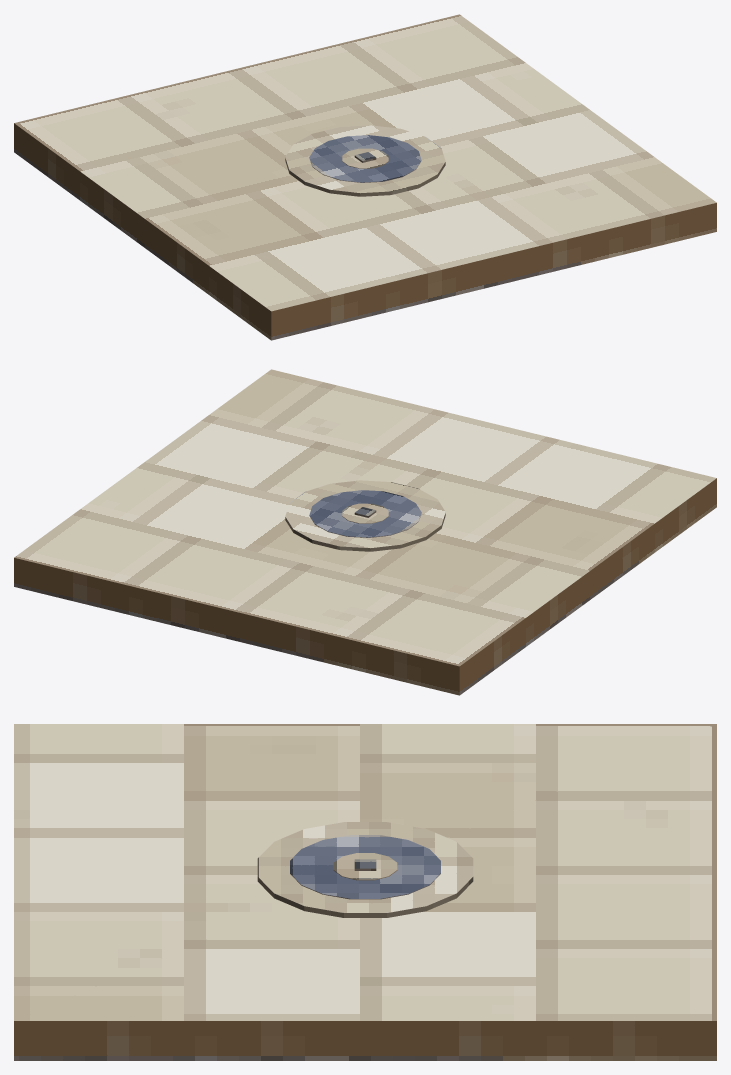
File: plaza.glb
The picture shows the model from 3 angles, top to bottom: view 1: azimuth 30°, elevation 25°; view 2: azimuth 150°, elevation 25°; view 3: azimuth 270°, elevation 25°; orthographic projection. The views are drawn at different scales.
Visible parts, largest first — view 1: tile-plaza__terrain, tile-plaza__rosette_ring, tile-plaza__rosette_inlay, tile-plaza__rosette_hub; view 2: tile-plaza__terrain, tile-plaza__rosette_ring, tile-plaza__rosette_inlay, tile-plaza__rosette_hub; view 3: tile-plaza__terrain, tile-plaza__rosette_ring, tile-plaza__rosette_inlay, tile-plaza__rosette_hub.
Boxes of the visible parts, left/top/right/bottom form: tile-plaza__terrain: left=14, top=14, right=716, bottom=340; tile-plaza__rosette_ring: left=285, top=125, right=445, bottom=196; tile-plaza__rosette_inlay: left=309, top=135, right=421, bottom=182; tile-plaza__rosette_hub: left=342, top=148, right=388, bottom=168; tile-plaza__terrain: left=14, top=369, right=716, bottom=695; tile-plaza__rosette_ring: left=285, top=480, right=445, bottom=551; tile-plaza__rosette_inlay: left=309, top=490, right=421, bottom=537; tile-plaza__rosette_hub: left=342, top=503, right=388, bottom=523; tile-plaza__terrain: left=14, top=724, right=716, bottom=1060; tile-plaza__rosette_ring: left=257, top=822, right=473, bottom=917; tile-plaza__rosette_inlay: left=290, top=835, right=440, bottom=899; tile-plaza__rosette_hub: left=333, top=853, right=397, bottom=880.
Bounding box in the file's own units: 6.6 × 0.5027 × 6.6.
5 materials, 5 textured.
